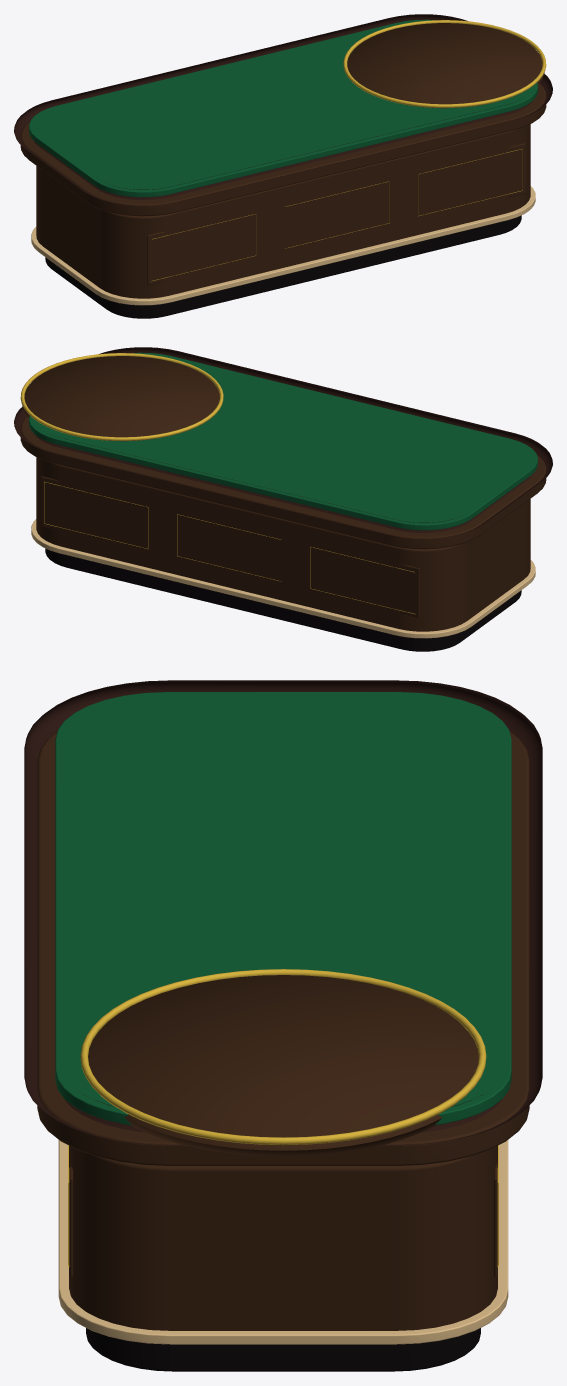
The model's file is roulette_table.glb.
3 renders of one model, top to bottom at view 1: azimuth 30°, elevation 25°; view 2: azimuth 150°, elevation 25°; view 3: azimuth 270°, elevation 25°, orthographic. The views are drawn at different scales.
Visible parts, largest first — view 1: roulette_woodDark, roulette_felt, roulette_leather, roulette_lacquer, roulette_brass, roulette_gold; view 2: roulette_woodDark, roulette_felt, roulette_leather, roulette_lacquer, roulette_brass, roulette_gold; view 3: roulette_woodDark, roulette_felt, roulette_leather, roulette_lacquer, roulette_brass, roulette_gold.
Part boxes in pixels (bbox=[...]): roulette_woodDark: bbox=[20, 23, 546, 298]; roulette_felt: bbox=[29, 19, 537, 197]; roulette_leather: bbox=[14, 14, 552, 205]; roulette_lacquer: bbox=[45, 215, 521, 318]; roulette_brass: bbox=[31, 186, 535, 305]; roulette_gold: bbox=[151, 20, 546, 281]; roulette_woodDark: bbox=[20, 356, 546, 631]; roulette_felt: bbox=[29, 352, 537, 530]; roulette_leather: bbox=[14, 347, 552, 538]; roulette_lacquer: bbox=[45, 548, 521, 651]; roulette_brass: bbox=[31, 519, 535, 638]; roulette_gold: bbox=[20, 353, 415, 614]; roulette_woodDark: bbox=[37, 731, 529, 1330]; roulette_felt: bbox=[55, 692, 511, 1125]; roulette_leather: bbox=[24, 680, 542, 1145]; roulette_lacquer: bbox=[86, 1328, 480, 1371]; roulette_brass: bbox=[58, 1140, 508, 1344]; roulette_gold: bbox=[68, 969, 498, 1267].
Size of the model in its own units: 3.43 by 0.942 by 1.6.
